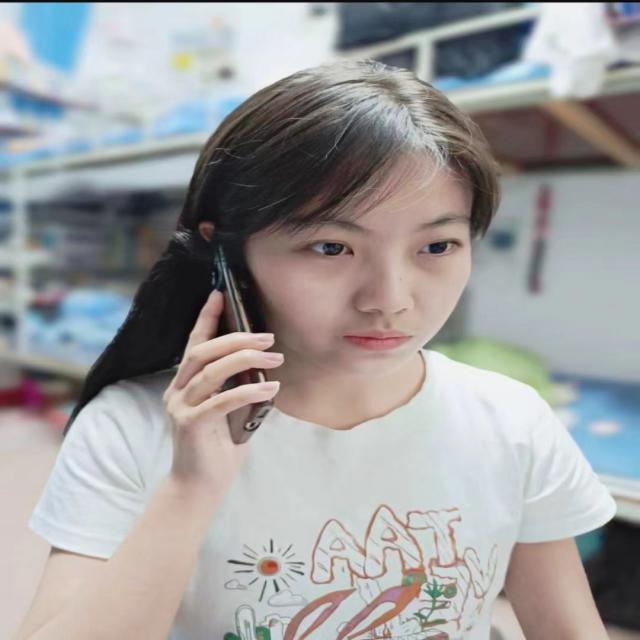phone: (193, 236, 274, 446)
